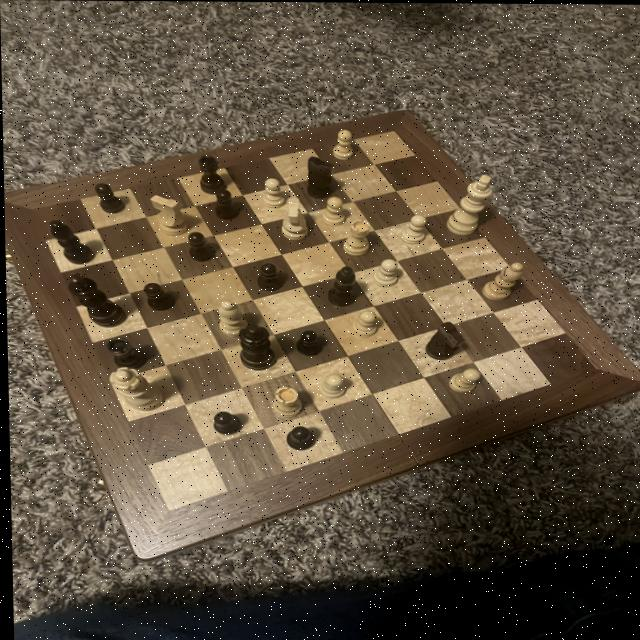bishop: (46, 219, 99, 266), (323, 263, 364, 308)
black-bishop: (63, 271, 129, 328)
black-king: (417, 319, 467, 362), (301, 153, 338, 199)
black-knight: (181, 228, 223, 264), (93, 180, 129, 215), (291, 326, 328, 359), (142, 282, 180, 313), (208, 187, 242, 221), (249, 261, 284, 294), (206, 410, 247, 438), (281, 425, 319, 453)
black-pawn: (231, 321, 278, 371)
black-queen: (106, 336, 151, 376), (192, 154, 229, 196)
black-rook: (476, 259, 526, 303), (211, 299, 252, 338)
white-bishop: (439, 172, 500, 238)
white-king: (147, 192, 189, 237), (276, 195, 313, 242)
white-knight: (442, 367, 485, 398), (395, 212, 429, 247), (259, 176, 289, 209), (319, 194, 349, 227), (349, 308, 379, 340), (329, 126, 355, 162), (370, 258, 401, 288), (316, 372, 347, 402)
white-pawn: (104, 366, 172, 414)
white-queen: (341, 219, 374, 258), (268, 384, 305, 418)
